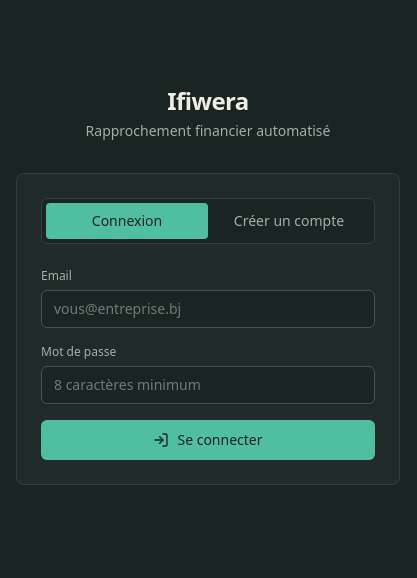
Test: LoginScreen › bascule vers le mode inscription et affiche les champs supplémentaires
The width and height of the screenshot is (417, 578).
Click the button "Créer un compte" at (289, 221), box [208,203,370,239]
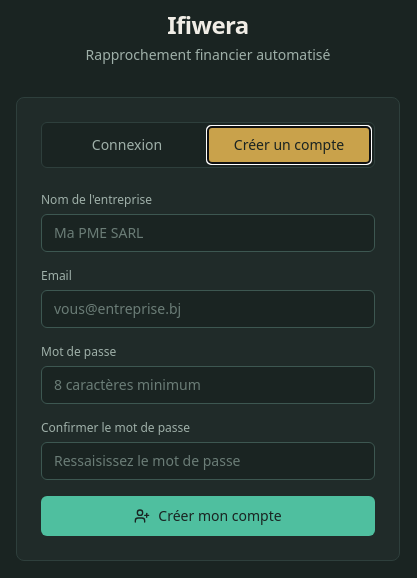
Check: the field labelled "Nom de l'entreprise" is shown, box [41,214,375,252]
Check: the password field labelled "Confirmer le mot de passe" is shown, box [41,442,375,480]
Check: the button "Créer mon compte" is shown, box [41,496,375,536]
